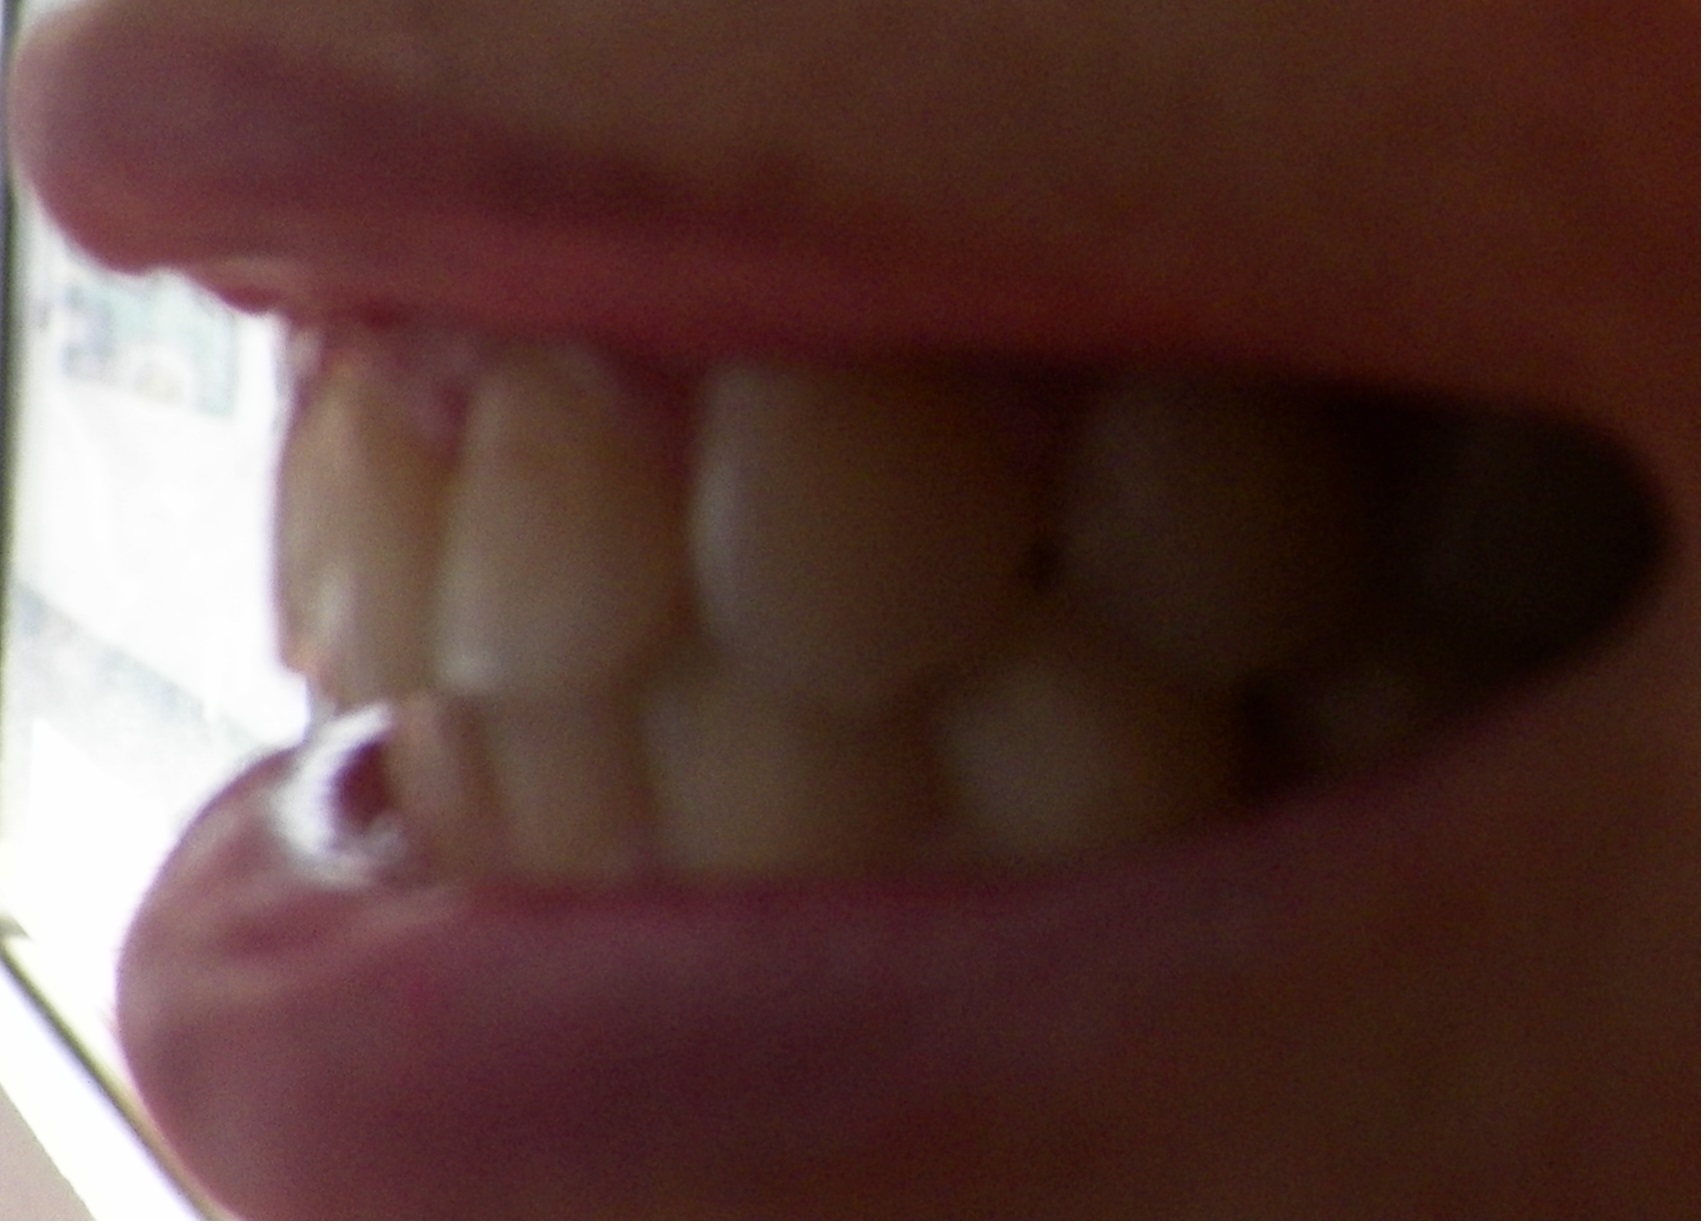boca: (267, 329, 1643, 867)
